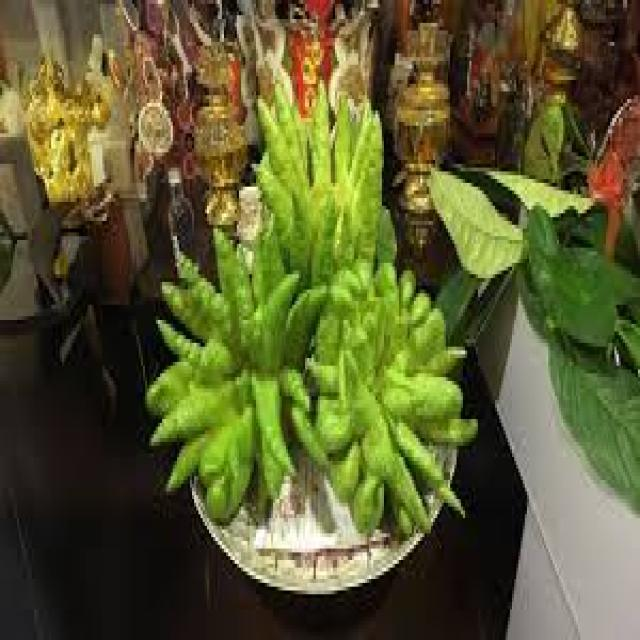PhatThu: (128, 64, 487, 570)
